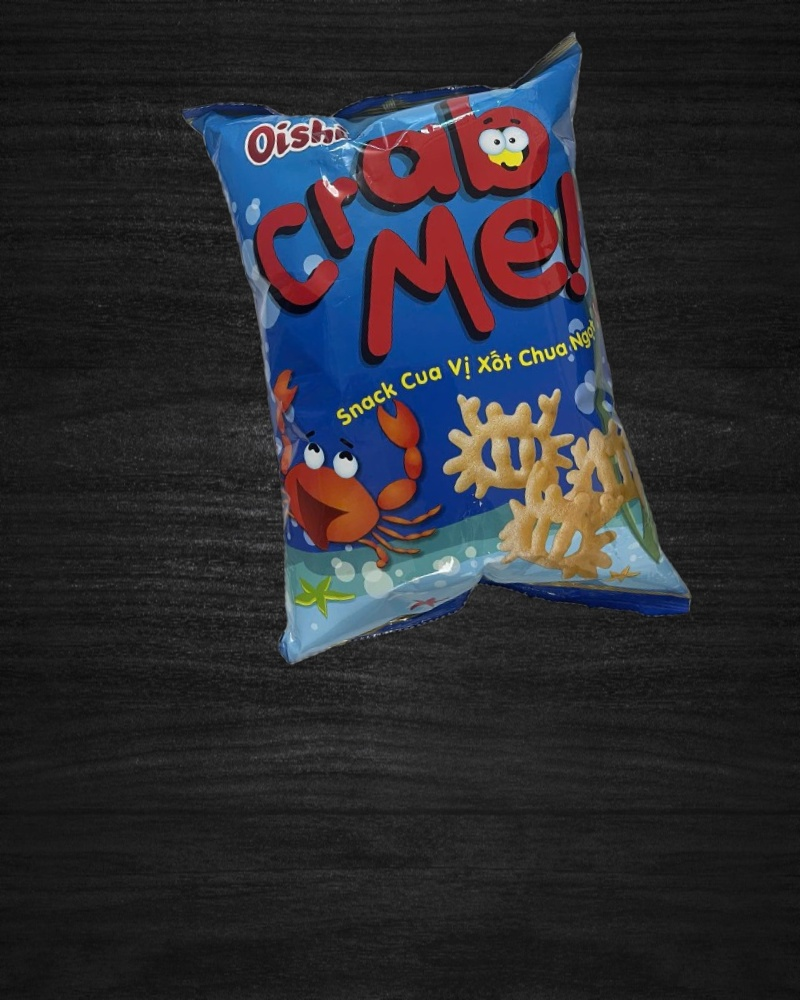Snack cua: (180, 29, 694, 679)
